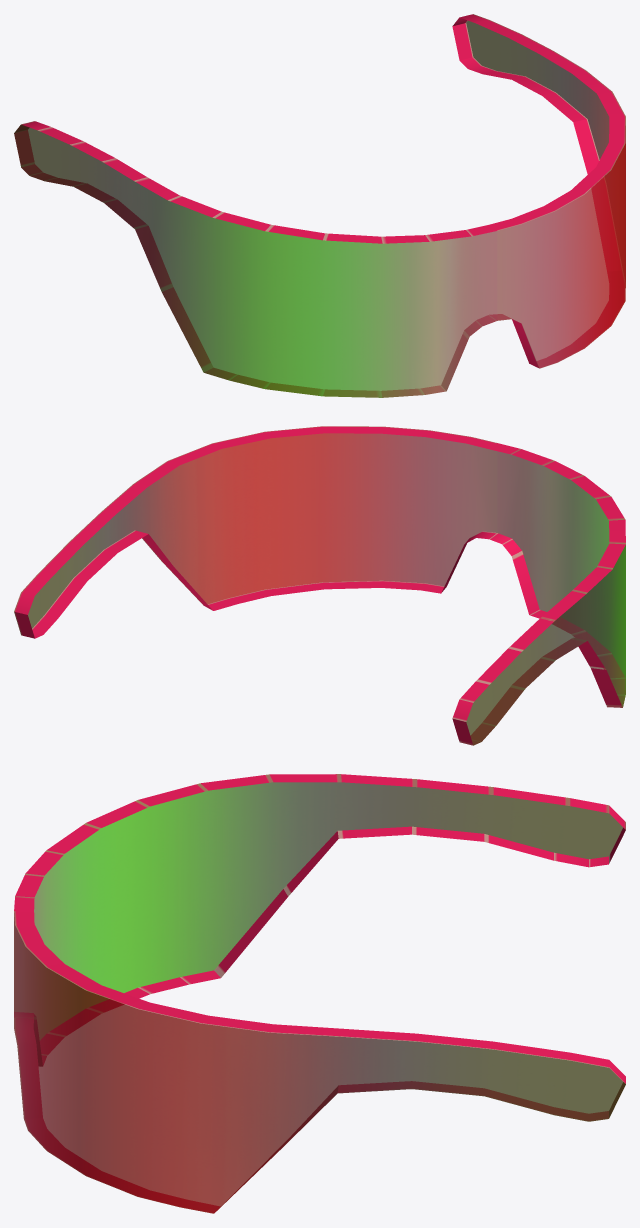
3 renders of one model, top to bottom at view 1: azimuth 30°, elevation 25°; view 2: azimuth 150°, elevation 25°; view 3: azimuth 270°, elevation 25°, orthographic. The views are drawn at different scales.
Visible parts, largest first — view 1: Wolf3D_Glasses; view 2: Wolf3D_Glasses; view 3: Wolf3D_Glasses.
Part boxes in pixels (x1,y1,x2,y2): Wolf3D_Glasses: [14, 14, 625, 397]; Wolf3D_Glasses: [14, 426, 625, 745]; Wolf3D_Glasses: [14, 774, 625, 1213].
Size of the model in its own units: 0.1663 by 0.0559 by 0.1637.
1 material, 1 textured.
